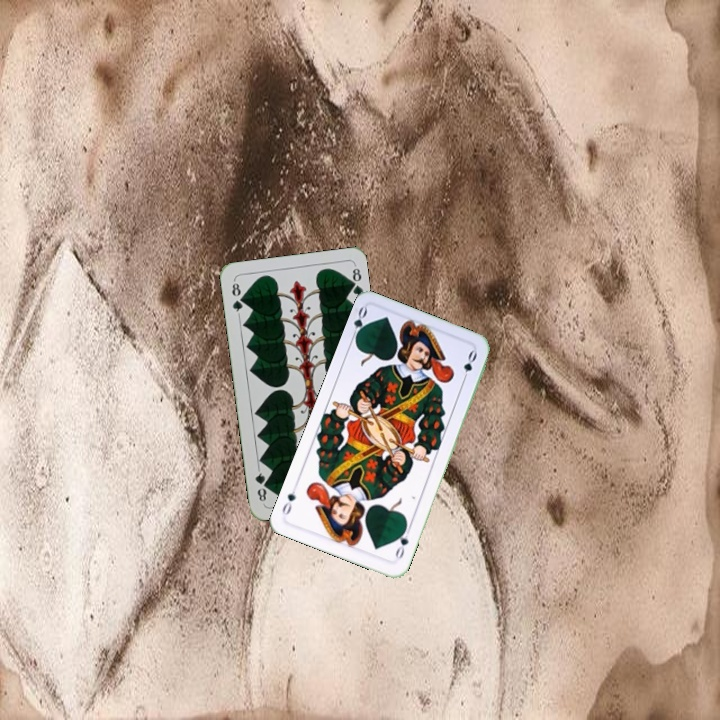G8: (228, 277, 246, 317)
GO: (347, 303, 371, 344), (391, 523, 413, 563)
